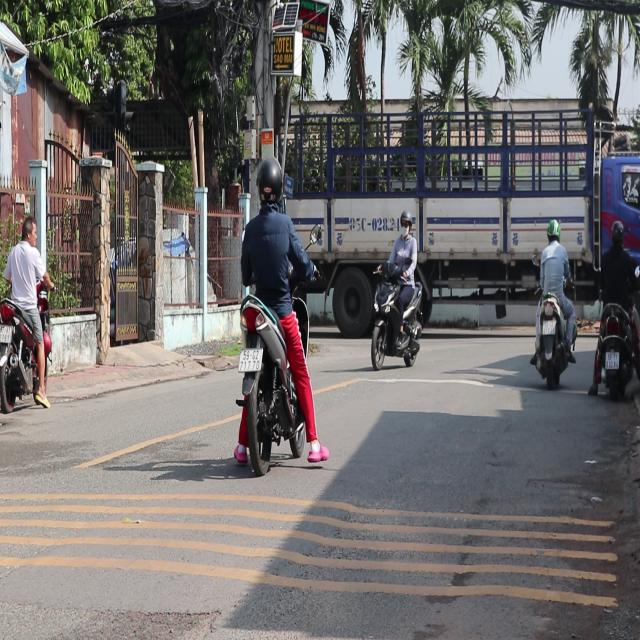helmet: (254, 153, 283, 207), (609, 218, 624, 246), (398, 206, 412, 234), (545, 217, 560, 239)
licenseplate: (231, 151, 321, 475), (0, 210, 53, 412), (369, 206, 424, 370), (590, 216, 638, 398), (529, 217, 576, 387)
motorcyclist: (20, 212, 37, 244)
nohelmet: (238, 349, 262, 372), (0, 323, 12, 340), (606, 352, 618, 368)
